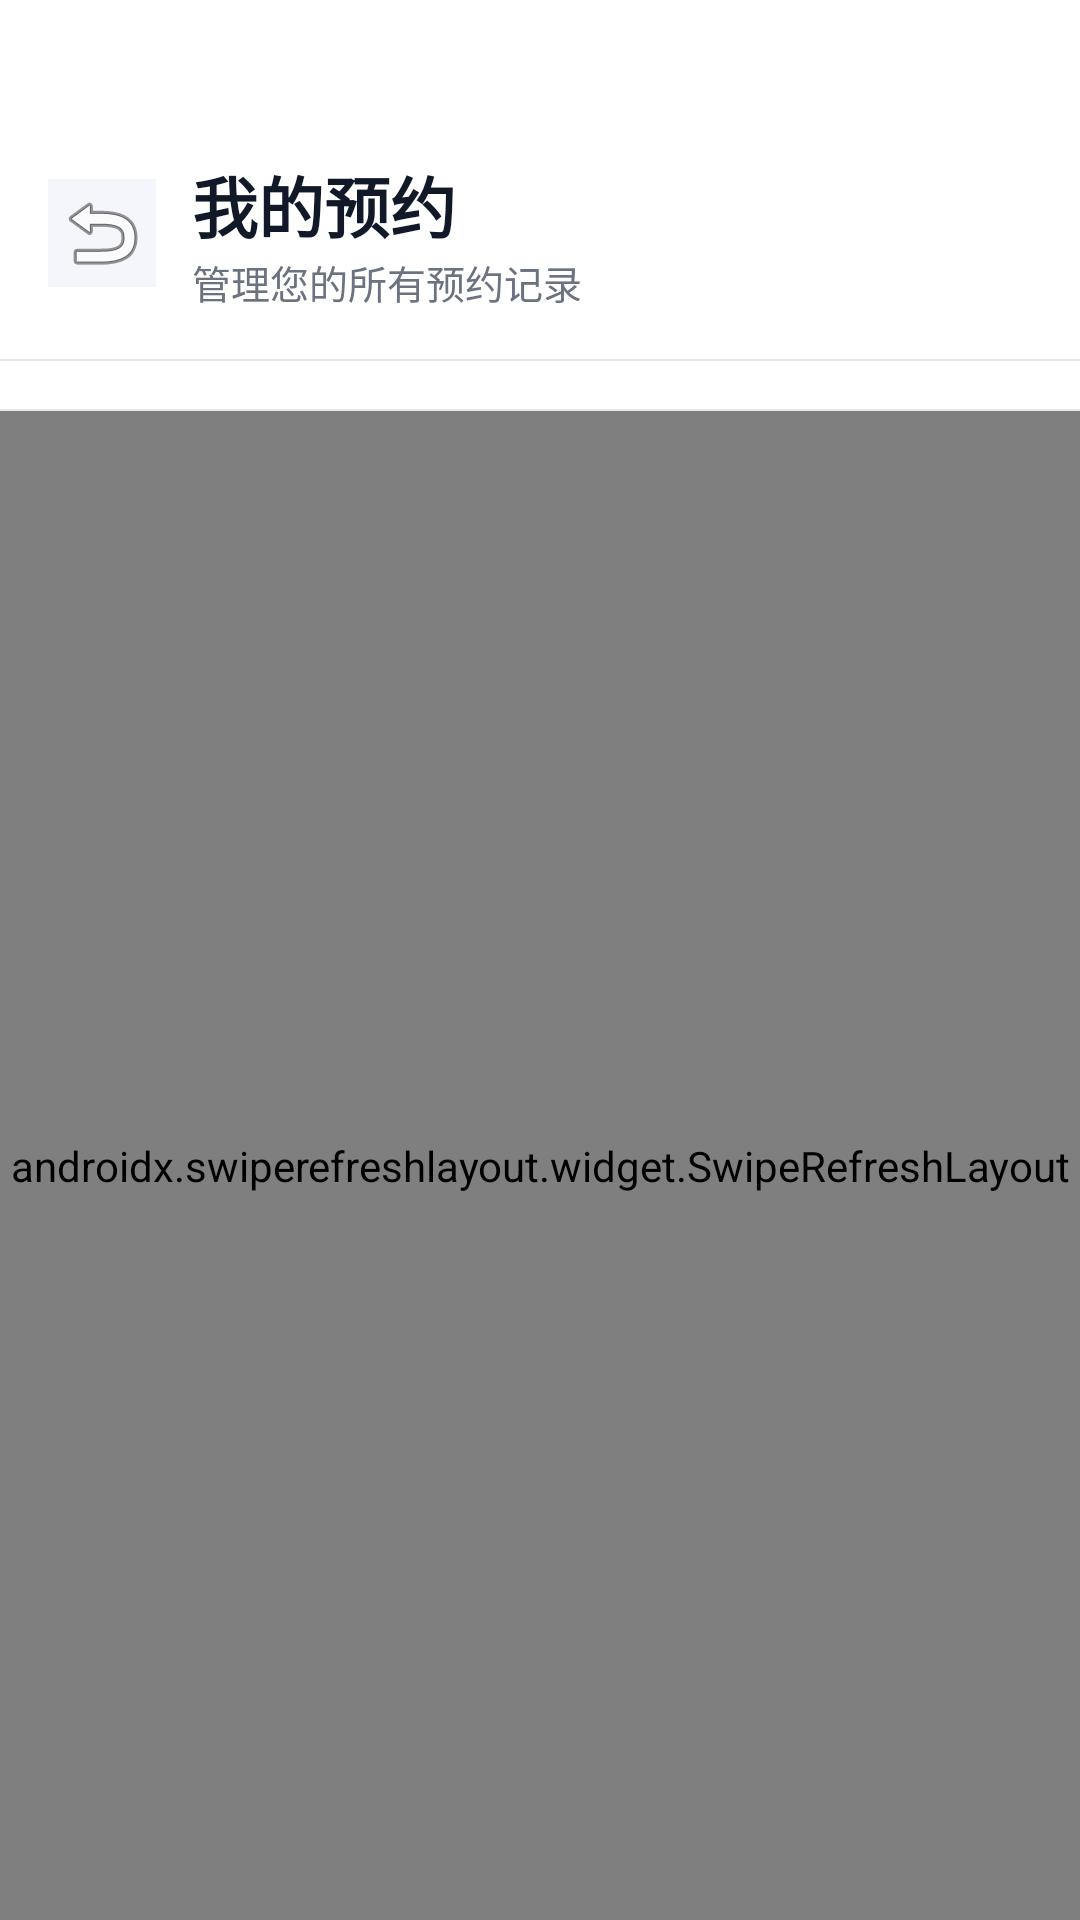

Locate icon controls on the screen. Image size 1080x1920, boxes as region(x1, y1, x2, y2).
返回: region(48, 179, 156, 287)
